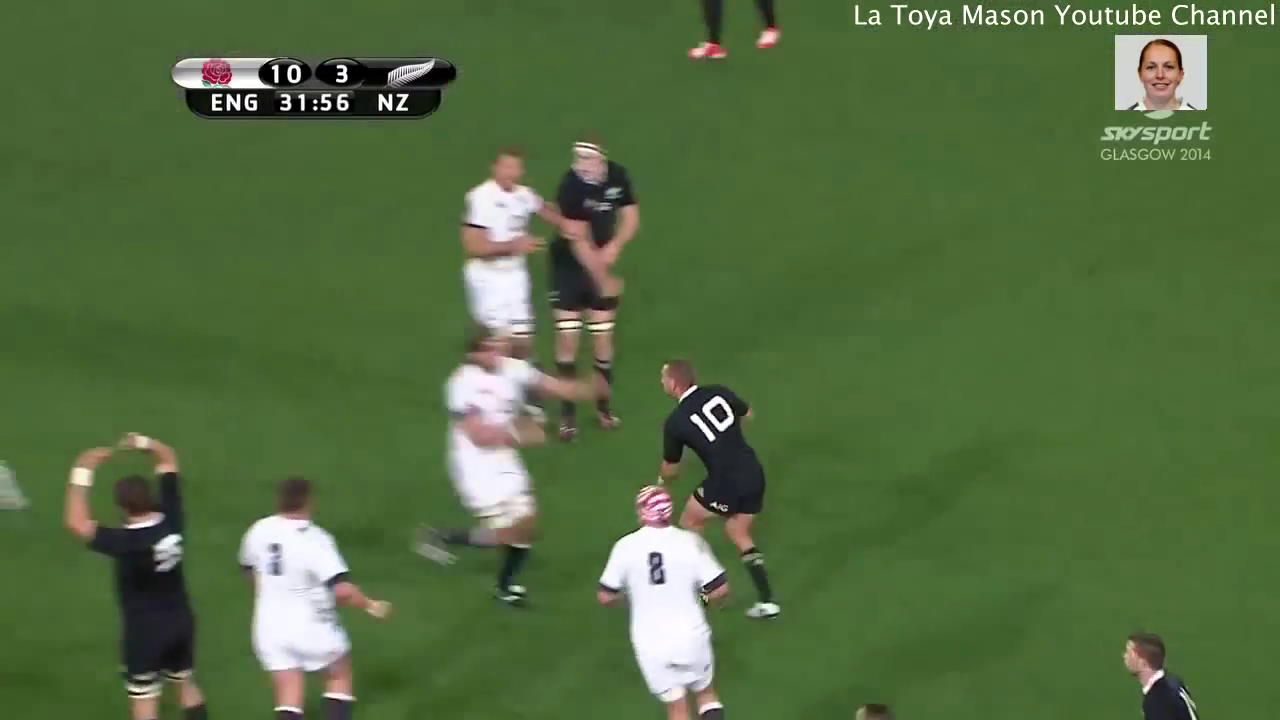player: (389, 316, 620, 632), (52, 428, 226, 720), (222, 472, 396, 720), (641, 355, 792, 636), (585, 480, 752, 720), (541, 132, 652, 443), (441, 138, 568, 401), (1106, 624, 1210, 720)
